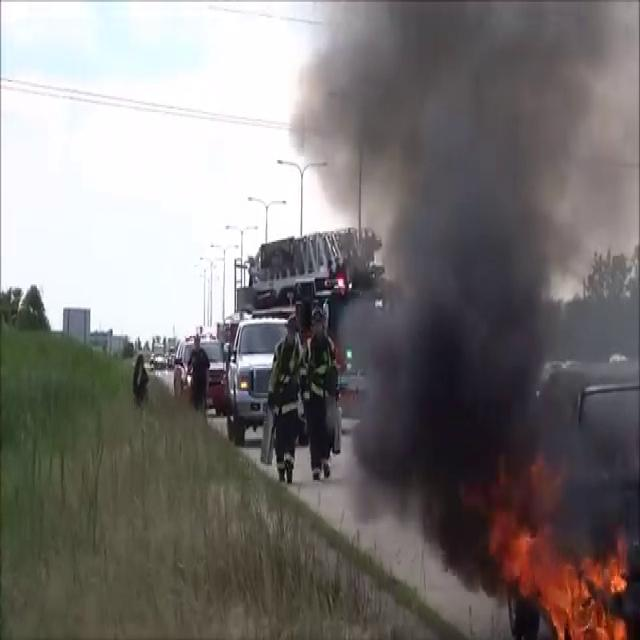Fire: (496, 518, 635, 638)
Smoke: (318, 0, 640, 539)
